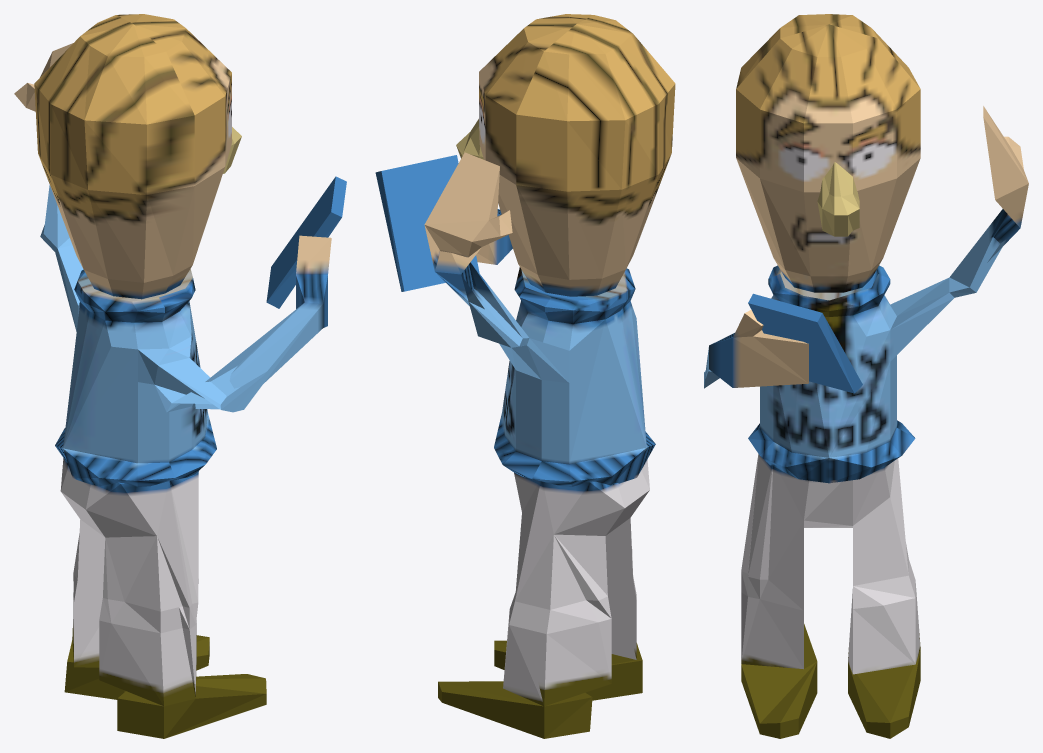
File: PipSong.glb
3 views of the same model, side by side, from view 1: azimuth 30°, elevation 25°; view 2: azimuth 150°, elevation 25°; view 3: azimuth 270°, elevation 25° (orthographic). The views are drawn at different scales.
Parts seen in each view (by area): view 1: PipSong; view 2: PipSong; view 3: PipSong.
Boxes of the visible parts, x1,y1,x2,y2 form: PipSong: (14, 14, 346, 738); PipSong: (375, 14, 675, 738); PipSong: (704, 14, 1028, 738).
Bounding box in the file's own units: 51.48 × 116 × 51.08.
Materials: 1 (1 with a texture image).
